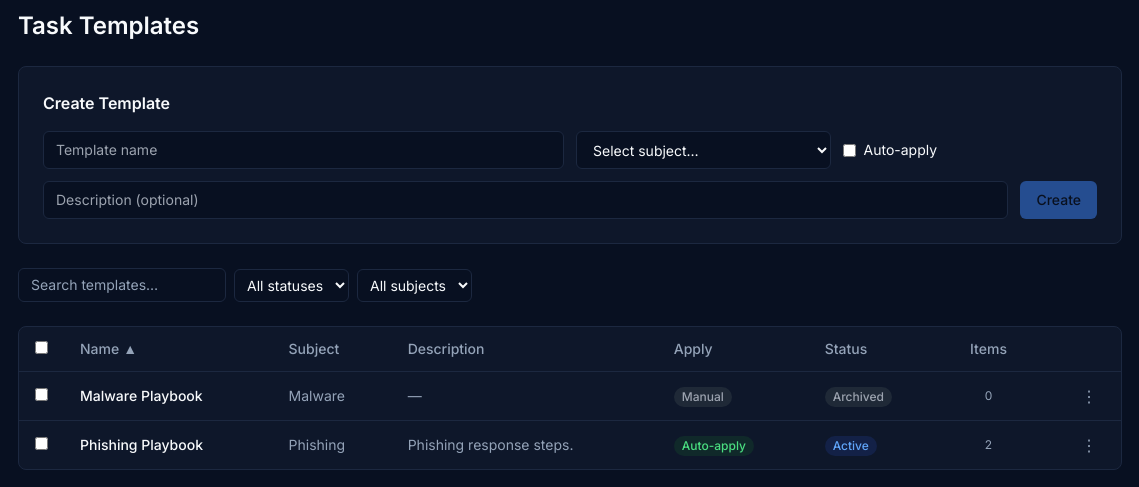
Test: TaskTemplatesAdmin › filters by search query
Expected: the text "Phishing Playbook" is shown, 64,420 -> 272,469
Type "malware" into the search field labelled "Search templates" at [122, 285], box 18,268 -> 226,302
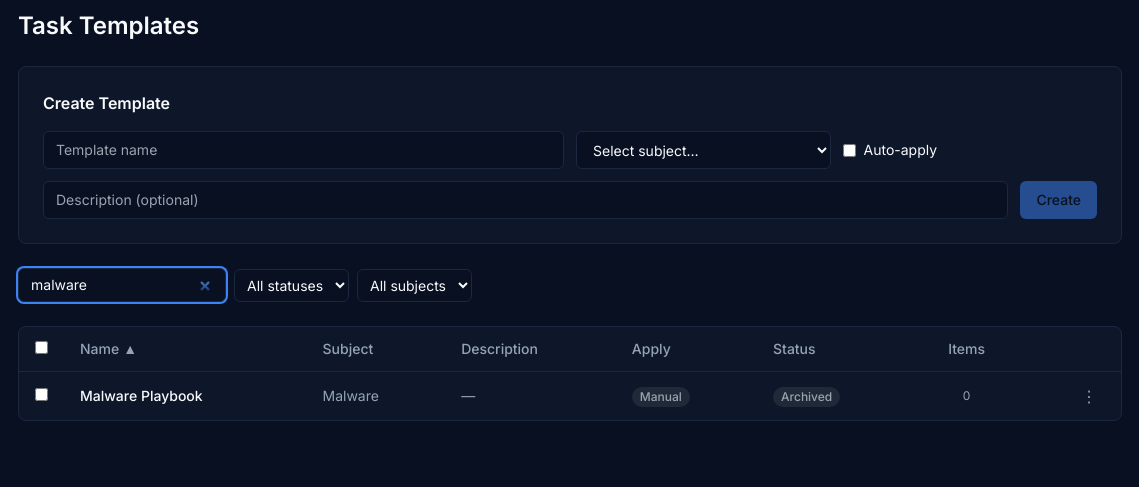
Expected: the text "Malware Playbook" is shown, 64,372 -> 306,420
Result: the text "Phishing Playbook" is gone
